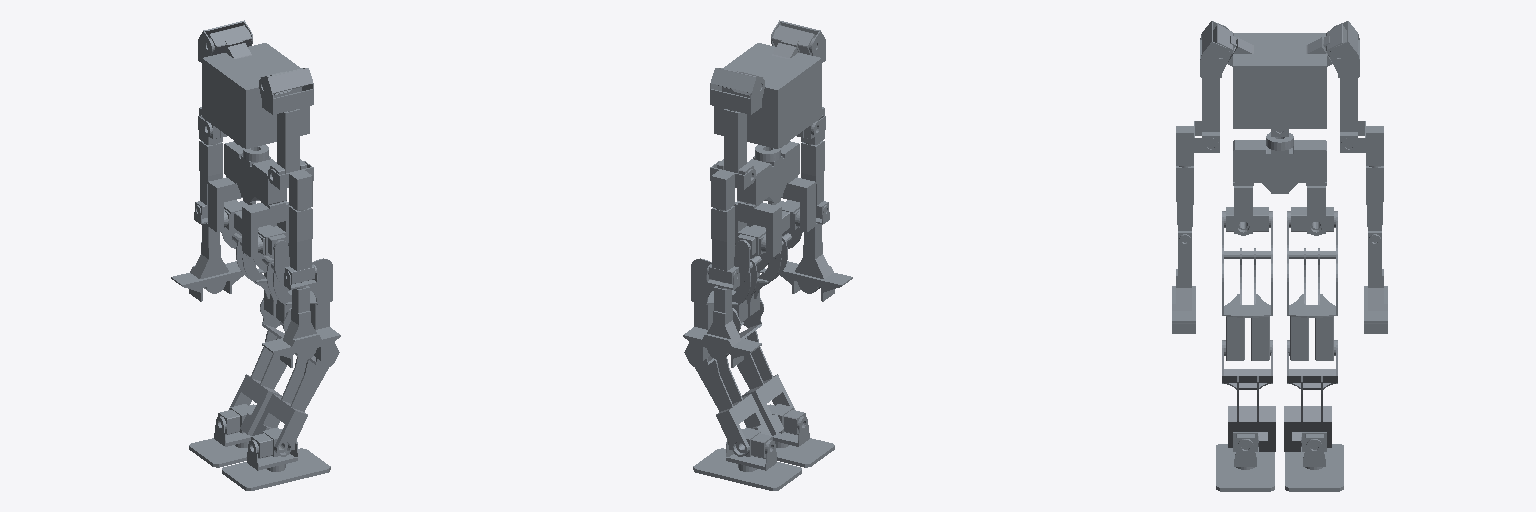
--- What the picture shows (computed from the rendered views, not written in the file) ---
Views: 3 orthographic renders of the robot side by side, from view 1: azimuth 30°, elevation 25°; view 2: azimuth 150°, elevation 25°; view 3: azimuth 270°, elevation 25°.
Model fullbody_mujoco_frame_arrange with 29 links and 28 joints (28 revolute), rooted at Pelvis, posed every joint at zero.
Visible links, largest first — view 1: Body, R3, R5, L3, R2, UR6, Pelvis, UL6, UR1, UR4, R0, L5 (+9 smaller); view 2: Body, L3, L5, R3, L2, UL6, Pelvis, UR6, UL1, UL4, L0, R5 (+9 smaller); view 3: Body, Pelvis, R2, L2, R3, L3, R5, L5, UR6, UL6, UR4, UL4 (+10 smaller).
Link boxes in pixels (x1,y1,x2,y2): Body: [202, 43, 309, 148]; R3: [252, 342, 339, 456]; R5: [222, 440, 330, 490]; L3: [229, 298, 293, 435]; R2: [253, 240, 332, 329]; UR6: [262, 286, 340, 367]; Pelvis: [224, 141, 286, 205]; UL6: [171, 223, 243, 301]; UR1: [259, 68, 313, 114]; UR4: [285, 206, 315, 284]; R0: [242, 201, 289, 257]; L5: [189, 417, 297, 467]; Body: [714, 43, 821, 148]; L3: [684, 342, 771, 456]; L5: [693, 440, 801, 490]; R3: [730, 298, 794, 435]; L2: [691, 240, 770, 329]; UL6: [683, 286, 761, 367]; Pelvis: [737, 141, 799, 205]; UR6: [780, 223, 852, 301]; UL1: [710, 68, 764, 114]; UL4: [708, 206, 738, 284]; L0: [734, 201, 781, 257]; R5: [726, 417, 834, 467]; Body: [1227, 33, 1332, 136]; Pelvis: [1233, 132, 1326, 193]; R2: [1222, 211, 1272, 360]; L2: [1287, 211, 1337, 360]; R3: [1222, 340, 1275, 451]; L3: [1284, 340, 1337, 451]; R5: [1216, 439, 1274, 491]; L5: [1285, 439, 1343, 491]; UR6: [1172, 253, 1195, 333]; UL6: [1364, 253, 1387, 333]; UR4: [1176, 166, 1193, 243]; UL4: [1366, 166, 1383, 243].
Bounding box of the posed robot: 0.3405 × 0.6237 × 1.39 m (x, y, z).
Meshes: 29 distinct files referenced, 28 mesh visuals loaded (28 binary STL); not drawn: 1 (reference not matched to a file when rendering).

robot.urdf — fullbody_mujoco_frame_arrange:
<robot
  name="fullbody_mujoco_frame_arrange">
  <link
    name="Pelvis">
    <inertial>
      <origin
        xyz="-0.00105980649259206 8.82493762363364E-19 0.0819864534283389"
        rpy="0 0 0" />
      <mass
        value="1.99938688064795" />
      <inertia
        ixx="0.0135049631598827"
        ixy="-2.24501058681675E-18"
        ixz="2.82259221890855E-07"
        iyy="0.00355530237788711"
        iyz="-3.83098894264693E-19"
        izz="0.0115793666009882" />
    </inertial>
    <visual>
      <origin
        xyz="0 0 0"
        rpy="0 0 0" />
      <geometry>
        <mesh
          filename="package://fullbody_mujoco_frame_arrange/meshes/Pelvis.STL" />
      </geometry>
      <material
        name="">
        <color
          rgba="0.592156862745098 0.619607843137255 0.650980392156863 1" />
      </material>
    </visual>
    <collision>
      <origin
        xyz="0 0 0"
        rpy="0 0 0" />
      <geometry>
        <mesh
          filename="package://fullbody_mujoco_frame_arrange/meshes/Pelvis.STL" />
      </geometry>
    </collision>
  </link>
  <link
    name="R0">
    <inertial>
      <origin
        xyz="-0.0308912114164692 -1.52655665885959E-16 -0.034357284018367"
        rpy="0 0 0" />
      <mass
        value="1.49504225265301" />
      <inertia
        ixx="0.00324635414551968"
        ixy="5.75637270445361E-18"
        ixz="-0.000774305698585861"
        iyy="0.00586649176969304"
        iyz="-6.62206490565839E-18"
        izz="0.00335306844351764" />
    </inertial>
    <visual>
      <origin
        xyz="0 0 0"
        rpy="0 0 0" />
      <geometry>
        <mesh
          filename="package://fullbody_mujoco_frame_arrange/meshes/R0.STL" />
      </geometry>
      <material
        name="">
        <color
          rgba="0.592156862745098 0.619607843137255 0.650980392156863 1" />
      </material>
    </visual>
    <collision>
      <origin
        xyz="0 0 0"
        rpy="0 0 0" />
      <geometry>
        <mesh
          filename="package://fullbody_mujoco_frame_arrange/meshes/R0.STL" />
      </geometry>
    </collision>
  </link>
  <joint
    name="JR0"
    type="revolute">
    <origin
      xyz="0 -0.105 0"
      rpy="0 0 0" />
    <parent
      link="Pelvis" />
    <child
      link="R0" />
    <axis
      xyz="0 0 1" />
  </joint>
  <link
    name="R1">
    <inertial>
      <origin
        xyz="0.0115999999999955 0.0106425706117865 0.000331808020890556"
        rpy="0 0 0" />
      <mass
        value="1.02295942481793" />
      <inertia
        ixx="0.00167402376208581"
        ixy="3.80943269726996E-18"
        ixz="-6.60686341000731E-20"
        iyy="0.000626629649372664"
        iyz="3.61236668585004E-06"
        izz="0.00172336031851566" />
    </inertial>
    <visual>
      <origin
        xyz="0 0 0"
        rpy="0 0 0" />
      <geometry>
        <mesh
          filename="package://fullbody_mujoco_frame_arrange/meshes/R1.STL" />
      </geometry>
      <material
        name="">
        <color
          rgba="0.592156862745098 0.619607843137255 0.650980392156863 1" />
      </material>
    </visual>
    <collision>
      <origin
        xyz="0 0 0"
        rpy="0 0 0" />
      <geometry>
        <mesh
          filename="package://fullbody_mujoco_frame_arrange/meshes/R1.STL" />
      </geometry>
    </collision>
  </link>
  <joint
    name="JR1"
    type="revolute">
    <origin
      xyz="-0.0175000000000037 0 -0.10240000000001"
      rpy="0 0 0" />
    <parent
      link="R0" />
    <child
      link="R1" />
    <axis
      xyz="1 0 0" />
  </joint>
  <link
    name="R2">
    <inertial>
      <origin
        xyz="0.126227252565039 0.00125000000001285 -0.241193766109434"
        rpy="0 0 0" />
      <mass
        value="3.20210287502586" />
      <inertia
        ixx="0.0325368612554825"
        ixy="-2.2396866944102E-16"
        ixz="0.0107540262686362"
        iyy="0.0340781560009519"
        iyz="4.38077775705211E-16"
        izz="0.0151823794196918" />
    </inertial>
    <visual>
      <origin
        xyz="0 0 0"
        rpy="0 0 0" />
      <geometry>
        <mesh
          filename="package://fullbody_mujoco_frame_arrange/meshes/R2.STL" />
      </geometry>
      <material
        name="">
        <color
          rgba="0.592156862745098 0.619607843137255 0.650980392156863 1" />
      </material>
    </visual>
    <collision>
      <origin
        xyz="0 0 0"
        rpy="0 0 0" />
      <geometry>
        <mesh
          filename="package://fullbody_mujoco_frame_arrange/meshes/R2.STL" />
      </geometry>
    </collision>
  </link>
  <joint
    name="JR2"
    type="revolute">
    <origin
      xyz="0.0115999999999956 0.0107499999999859 0"
      rpy="0 0 0" />
    <parent
      link="R1" />
    <child
      link="R2" />
    <axis
      xyz="0 1 0" />
  </joint>
  <link
    name="R3">
    <inertial>
      <origin
        xyz="-0.0703253219962758 0.0159776440098525 -0.236060567753395"
        rpy="0 0 0" />
      <mass
        value="2.02412981917507" />
      <inertia
        ixx="0.0225925170954812"
        ixy="0.00125524164212042"
        ixz="-0.0089683398047703"
        iyy="0.02365792851957"
        iyz="0.00234544817428302"
        izz="0.00955016079790495" />
    </inertial>
    <visual>
      <origin
        xyz="0 0 0"
        rpy="0 0 0" />
      <geometry>
        <mesh
          filename="package://fullbody_mujoco_frame_arrange/meshes/R3.STL" />
      </geometry>
      <material
        name="">
        <color
          rgba="0.592156862745098 0.619607843137255 0.650980392156863 1" />
      </material>
    </visual>
    <collision>
      <origin
        xyz="0 0 0"
        rpy="0 0 0" />
      <geometry>
        <mesh
          filename="package://fullbody_mujoco_frame_arrange/meshes/R3.STL" />
      </geometry>
    </collision>
  </link>
  <joint
    name="JR3"
    type="revolute">
    <origin
      xyz="0.151500000000001 0 -0.339"
      rpy="0 0 0" />
    <parent
      link="R2" />
    <child
      link="R3" />
    <axis
      xyz="0 1 0" />
  </joint>
  <link
    name="R4">
    <inertial>
      <origin
        xyz="-0.0105200916368529 1.66533453693773E-16 1.11022302462516E-16"
        rpy="0 0 0" />
      <mass
        value="1.03486911401793" />
      <inertia
        ixx="0.00063730620770851"
        ixy="-8.23437812462584E-19"
        ixz="2.57228463602455E-19"
        iyy="0.0016880464367435"
        iyz="1.36728725371534E-19"
        izz="0.00172846914823702" />
    </inertial>
    <visual>
      <origin
        xyz="0 0 0"
        rpy="0 0 0" />
      <geometry>
        <mesh
          filename="package://fullbody_mujoco_frame_arrange/meshes/R4.STL" />
      </geometry>
      <material
        name="">
        <color
          rgba="0.592156862745098 0.619607843137255 0.650980392156863 1" />
      </material>
    </visual>
    <collision>
      <origin
        xyz="0 0 0"
        rpy="0 0 0" />
      <geometry>
        <mesh
          filename="package://fullbody_mujoco_frame_arrange/meshes/R4.STL" />
      </geometry>
    </collision>
  </link>
  <joint
    name="JR4"
    type="revolute">
    <origin
      xyz="-0.132038475772932 -0.00484999999998793 -0.348697348592669"
      rpy="0 0 0" />
    <parent
      link="R3" />
    <child
      link="R4" />
    <axis
      xyz="0 1 0" />
  </joint>
  <link
    name="R5">
    <inertial>
      <origin
        xyz="-0.00139937108212529 7.46624984060418E-15 -0.0862968930611427"
        rpy="0 0 0" />
      <mass
        value="1.29697886625498" />
      <inertia
        ixx="0.00294553917069631"
        ixy="4.3926670498935E-19"
        ixz="6.56163604511414E-05"
        iyy="0.00846043205736081"
        iyz="-5.29087120860116E-20"
        izz="0.0107550696106033" />
    </inertial>
    <visual>
      <origin
        xyz="0 0 0"
        rpy="0 0 0" />
      <geometry>
        <mesh
          filename="package://fullbody_mujoco_frame_arrange/meshes/R5.STL" />
      </geometry>
      <material
        name="">
        <color
          rgba="0.592156862745098 0.619607843137255 0.650980392156863 1" />
      </material>
    </visual>
    <collision>
      <origin
        xyz="0 0 0"
        rpy="0 0 0" />
      <geometry>
        <mesh
          filename="package://fullbody_mujoco_frame_arrange/meshes/R5.STL" />
      </geometry>
    </collision>
  </link>
  <joint
    name="JR5"
    type="revolute">
    <origin
      xyz="0 0 0"
      rpy="0 0 0" />
    <parent
      link="R4" />
    <child
      link="R5" />
    <axis
      xyz="1 0 0" />
  </joint>
  <link
    name="L0">
    <inertial>
      <origin
        xyz="-0.0308912114164687 4.14945855453652E-15 -0.0343572840183674"
        rpy="0 0 0" />
      <mass
        value="1.49504225265302" />
      <inertia
        ixx="0.00324635414551968"
        ixy="-5.38980843610817E-18"
        ixz="-0.000774305698585859"
        iyy="0.00586649176969304"
        iyz="6.78820995201807E-18"
        izz="0.00335306844351765" />
    </inertial>
    <visual>
      <origin
        xyz="0 0 0"
        rpy="0 0 0" />
      <geometry>
        <mesh
          filename="package://fullbody_mujoco_frame_arrange/meshes/L0.STL" />
      </geometry>
      <material
        name="">
        <color
          rgba="0.592156862745098 0.619607843137255 0.650980392156863 1" />
      </material>
    </visual>
    <collision>
      <origin
        xyz="0 0 0"
        rpy="0 0 0" />
      <geometry>
        <mesh
          filename="package://fullbody_mujoco_frame_arrange/meshes/L0.STL" />
      </geometry>
    </collision>
  </link>
  <joint
    name="JL0"
    type="revolute">
    <origin
      xyz="0 0.105 0"
      rpy="0 0 0" />
    <parent
      link="Pelvis" />
    <child
      link="L0" />
    <axis
      xyz="0 0 1" />
  </joint>
  <link
    name="L1">
    <inertial>
      <origin
        xyz="0.0115999999999968 -0.0106425706117873 0.00033180802088742"
        rpy="0 0 0" />
      <mass
        value="1.02295942481793" />
      <inertia
        ixx="0.00167402376208581"
        ixy="-4.1396015436322E-18"
        ixz="-8.43779726493598E-20"
        iyy="0.000626629649372664"
        iyz="-3.61236668584994E-06"
        izz="0.00172336031851566" />
    </inertial>
    <visual>
      <origin
        xyz="0 0 0"
        rpy="0 0 0" />
      <geometry>
        <mesh
          filename="package://fullbody_mujoco_frame_arrange/meshes/L1.STL" />
      </geometry>
      <material
        name="">
        <color
          rgba="0.592156862745098 0.619607843137255 0.650980392156863 1" />
      </material>
    </visual>
    <collision>
      <origin
        xyz="0 0 0"
        rpy="0 0 0" />
      <geometry>
        <mesh
          filename="package://fullbody_mujoco_frame_arrange/meshes/L1.STL" />
      </geometry>
    </collision>
  </link>
  <joint
    name="JL1"
    type="revolute">
    <origin
      xyz="-0.0175000000000052 0 -0.102400000000006"
      rpy="0 0 0" />
    <parent
      link="L0" />
    <child
      link="L1" />
    <axis
      xyz="1 0 0" />
  </joint>
  <link
    name="L2">
    <inertial>
      <origin
        xyz="0.12622725256504 -0.00125000000001373 -0.241193766109435"
        rpy="0 0 0" />
      <mass
        value="3.20210287502589" />
      <inertia
        ixx="0.0325368612554827"
        ixy="1.32963067052095E-16"
        ixz="0.0107540262686364"
        iyy="0.0340781560009522"
        iyz="-3.23000714373388E-16"
        izz="0.015182379419692" />
    </inertial>
    <visual>
      <origin
        xyz="0 0 0"
        rpy="0 0 0" />
      <geometry>
        <mesh
          filename="package://fullbody_mujoco_frame_arrange/meshes/L2.STL" />
      </geometry>
      <material
        name="">
        <color
          rgba="0.592156862745098 0.619607843137255 0.650980392156863 1" />
      </material>
    </visual>
    <collision>
      <origin
        xyz="0 0 0"
        rpy="0 0 0" />
      <geometry>
        <mesh
          filename="package://fullbody_mujoco_frame_arrange/meshes/L2.STL" />
      </geometry>
    </collision>
  </link>
  <joint
    name="JL2"
    type="revolute">
    <origin
      xyz="0.0115999999999949 -0.0107499999999874 0"
      rpy="0 0 0" />
    <parent
      link="L1" />
    <child
      link="L2" />
    <axis
      xyz="0 1 0" />
  </joint>
  <link
    name="L3">
    <inertial>
      <origin
        xyz="-0.0703253219962734 -0.0159776440098489 -0.236060567753398"
        rpy="0 0 0" />
      <mass
        value="2.02412981917507" />
      <inertia
        ixx="0.0225925170954812"
        ixy="-0.00125524164212041"
        ixz="-0.00896833980477029"
        iyy="0.02365792851957"
        iyz="-0.002345448174283"
        izz="0.00955016079790494" />
    </inertial>
    <visual>
      <origin
        xyz="0 0 0"
        rpy="0 0 0" />
      <geometry>
        <mesh
          filename="package://fullbody_mujoco_frame_arrange/meshes/L3.STL" />
      </geometry>
      <material
        name="">
        <color
          rgba="0.592156862745098 0.619607843137255 0.650980392156863 1" />
      </material>
    </visual>
    <collision>
      <origin
        xyz="0 0 0"
        rpy="0 0 0" />
      <geometry>
        <mesh
          filename="package://fullbody_mujoco_frame_arrange/meshes/L3.STL" />
      </geometry>
    </collision>
  </link>
  <joint
    name="JL3"
    type="revolute">
    <origin
      xyz="0.151500000000001 0 -0.339"
      rpy="0 0 0" />
    <parent
      link="L2" />
    <child
      link="L3" />
    <axis
      xyz="0 1 0" />
  </joint>
  <link
    name="L4">
    <inertial>
      <origin
        xyz="-0.010520091636853 -1.66533453693773E-16 0"
        rpy="0 0 0" />
      <mass
        value="1.03486911401793" />
      <inertia
        ixx="0.00063730620770851"
        ixy="4.37093279155166E-18"
        ixz="-1.61410521280331E-20"
        iyy="0.0016880464367435"
        iyz="1.69186326886605E-20"
        izz="0.00172846914823702" />
    </inertial>
    <visual>
      <origin
        xyz="0 0 0"
        rpy="0 0 0" />
      <geometry>
        <mesh
          filename="package://fullbody_mujoco_frame_arrange/meshes/L4.STL" />
      </geometry>
      <material
        name="">
        <color
          rgba="0.592156862745098 0.619607843137255 0.650980392156863 1" />
      </material>
    </visual>
    <collision>
      <origin
        xyz="0 0 0"
        rpy="0 0 0" />
      <geometry>
        <mesh
          filename="package://fullbody_mujoco_frame_arrange/meshes/L4.STL" />
      </geometry>
    </collision>
  </link>
  <joint
    name="JL4"
    type="revolute">
    <origin
      xyz="-0.132038475772929 0.00484999999998872 -0.348697348592673"
      rpy="0 0 0" />
    <parent
      link="L3" />
    <child
      link="L4" />
    <axis
      xyz="0 1 0" />
  </joint>
  <link
    name="L5">
    <inertial>
      <origin
        xyz="-0.00139937108212552 -7.18869408444789E-15 -0.0862968930611433"
        rpy="0 0 0" />
      <mass
        value="1.29697886625497" />
      <inertia
        ixx="0.0029455391706963"
        ixy="-1.85521907614196E-18"
        ixz="6.5616360451143E-05"
        iyy="0.00846043205736077"
        iyz="9.61041556129397E-19"
        izz="0.0107550696106032" />
    </inertial>
    <visual>
      <origin
        xyz="0 0 0"
        rpy="0 0 0" />
      <geometry>
        <mesh
          filename="package://fullbody_mujoco_frame_arrange/meshes/L5.STL" />
      </geometry>
      <material
        name="">
        <color
          rgba="0.592156862745098 0.619607843137255 0.650980392156863 1" />
      </material>
    </visual>
    <collision>
      <origin
        xyz="0 0 0"
        rpy="0 0 0" />
      <geometry>
        <mesh
          filename="package://fullbody_mujoco_frame_arrange/meshes/L5.STL" />
      </geometry>
    </collision>
  </link>
  <joint
    name="JL5"
    type="revolute">
    <origin
      xyz="0 0 0"
      rpy="0 0 0" />
    <parent
      link="L4" />
    <child
      link="L5" />
    <axis
      xyz="1 0 0" />
  </joint>
  <link
    name="_Waist">
    <inertial>
      <origin
        xyz="-8.00340135756405E-17 -1.29715930275489E-17 0.178270343216913"
        rpy="0 0 0" />
      <mass
        value="0.176842325492251" />
      <inertia
        ixx="8.6348896175371E-05"
        ixy="1.60004039325329E-19"
        ixz="4.3882054843226E-19"
        iyy="0.000457258903225457"
        iyz="-7.47939022860998E-20"
        izz="0.000457225042872109" />
    </inertial>
    <visual>
      <origin
        xyz="0 0 0"
        rpy="0 0 0" />
      <geometry>
        <mesh
          filename="package://fullbody_mujoco_frame_arrange/meshes/_Waist.STL" />
      </geometry>
      <material
        name="">
        <color
          rgba="0.592156862745098 0.619607843137255 0.650980392156863 1" />
      </material>
    </visual>
    <collision>
      <origin
        xyz="0 0 0"
        rpy="0 0 0" />
      <geometry>
        <mesh
          filename="package://fullbody_mujoco_frame_arrange/meshes/_Waist.STL" />
      </geometry>
    </collision>
  </link>
  <joint
    name="_J_Waist"
    type="revolute">
    <origin
      xyz="0 0 0"
      rpy="0 0 0" />
    <parent
      link="Pelvis" />
    <child
      link="_Waist" />
    <axis
      xyz="0 0 1" />
  </joint>
  <link
    name="Body">
    <inertial>
      <origin
        xyz="-7.87563153227396E-06 -3.46104364475342E-16 0.12099852433747"
        rpy="0 0 0" />
      <mass
        value="10.779900988048" />
      <inertia
        ixx="0.104941196639937"
        ixy="-2.41792451787274E-16"
        ixz="-9.95220113469288E-06"
        iyy="0.0846793937803302"
        iyz="-3.0557678735332E-17"
        izz="0.109346308114195" />
    </inertial>
    <visual>
      <origin
        xyz="0 0 0"
        rpy="0 0 0" />
      <geometry>
        <mesh
          filename="package://fullbody_mujoco_frame_arrange/meshes/Body.STL" />
      </geometry>
      <material
        name="">
        <color
          rgba="0.592156862745098 0.619607843137255 0.650980392156863 1" />
      </material>
    </visual>
    <collision>
      <origin
        xyz="0 0 0"
        rpy="0 0 0" />
      <geometry>
        <mesh
          filename="package://fullbody_mujoco_frame_arrange/meshes/Body.STL" />
      </geometry>
    </collision>
  </link>
  <joint
    name="JB"
    type="revolute">
    <origin
      xyz="0 0 0.2185"
      rpy="0 0 0" />
    <parent
      link="_Waist" />
    <child
      link="Body" />
    <axis
      xyz="1 0 0" />
  </joint>
  <link
    name="UR0">
    <inertial>
      <origin
        xyz="0.000284439731738008 0.00120962828312199 -0.00069837921488447"
        rpy="0 0 0" />
      <mass
        value="0.928260291639464" />
      <inertia
        ixx="0.000471395640764918"
        ixy="-8.70058258615057E-09"
        ixz="5.02328369838718E-09"
        iyy="0.00154608316167006"
        iyz="6.72865494720474E-06"
        izz="0.00155385274316016" />
    </inertial>
    <visual>
      <origin
        xyz="0 0 0"
        rpy="0 0 0" />
      <geometry>
        <mesh
          filename="package://fullbody_mujoco_frame_arrange/meshes/UR0.STL" />
      </geometry>
      <material
        name="">
        <color
          rgba="0.592156862745098 0.619607843137255 0.650980392156863 1" />
      </material>
    </visual>
    <collision>
      <origin
        xyz="0 0 0"
        rpy="0 0 0" />
      <geometry>
        <mesh
          filename="package://fullbody_mujoco_frame_arrange/meshes/UR0.STL" />
      </geometry>
    </collision>
  </link>
  <joint
    name="JUR0"
    type="revolute">
    <origin
      xyz="0 -0.16999999999999 0.239000000000004"
      rpy="0 0 0" />
    <parent
      link="Body" />
    <child
      link="UR0" />
    <axis
      xyz="0 0.866025403784437 -0.500000000000003" />
  </joint>
  <link
    name="UR1">
    <inertial>
      <origin
        xyz="2.02696415098754E-15 -0.0335621345588441 -0.0304020188835159"
        rpy="0 0 0" />
      <mass
        value="0.373608707284293" />
      <inertia
        ixx="0.000654384857550586"
        ixy="-1.08030791028319E-18"
        ixz="-1.18937654731979E-18"
        iyy="0.0014937667987878"
        iyz="-7.73373256519738E-06"
        izz="0.00116418080219551" />
    </inertial>
    <visual>
      <origin
        xyz="0 0 0"
        rpy="0 0 0" />
      <geometry>
        <mesh
          filename="package://fullbody_mujoco_frame_arrange/meshes/UR1.STL" />
      </geometry>
      <material
        name="">
        <color
          rgba="0.592156862745098 0.619607843137255 0.650980392156863 1" />
      </material>
    </visual>
    <collision>
      <origin
        xyz="0 0 0"
        rpy="0 0 0" />
      <geometry>
        <mesh
          filename="package://fullbody_mujoco_frame_arrange/meshes/UR1.STL" />
      </geometry>
    </collision>
  </link>
  <joint
    name="JUR1"
    type="revolute">
    <origin
      xyz="0 0 0"
      rpy="0 0 0" />
    <parent
      link="UR0" />
    <child
      link="UR1" />
    <axis
      xyz="1 0 0" />
  </joint>
  <link
    name="UR2">
    <inertial>
      <origin
        xyz="-0.000466491496121203 1.11022302462516E-14 -0.2140874639808"
        rpy="0 0 0" />
      <mass
        value="1.75121750932602" />
      <inertia
        ixx="0.0101546802296105"
        ixy="-4.25067772057951E-20"
        ixz="-6.52827942954527E-05"
        iyy="0.0105712521065513"
        iyz="1.61755626143175E-17"
        izz="0.00125940999134334" />
    </inertial>
    <visual>
      <origin
        xyz="0 0 0"
        rpy="0 0 0" />
      <geometry>
        <mesh
          filename="package://fullbody_mujoco_frame_arrange/meshes/UR2.STL" />
      </geometry>
      <material
        name="">
        <color
          rgba="0.592156862745098 0.619607843137255 0.650980392156863 1" />
      </material>
    </visual>
    <collision>
      <origin
        xyz="0 0 0"
        rpy="0 0 0" />
      <geometry>
        <mesh
          filename="package://fullbody_mujoco_frame_arrange/meshes/UR2.STL" />
      </geometry>
    </collision>
  </link>
  <joint
    name="JUR2"
    type="revolute">
    <origin
      xyz="0 -0.0288557173865372 0"
      rpy="0 0 0" />
    <parent
      link="UR1" />
    <child
      link="UR2" />
    <axis
      xyz="0 0 1" />
  </joint>
  <link
    name="UR3">
    <inertial>
      <origin
        xyz="-0.000131563471519516 -0.0706245253279183 -0.0270194306600813"
        rpy="0 0 0" />
      <mass
        value="0.833430718805267" />
      <inertia
        ixx="0.00115447330671884"
        ixy="-5.25000312576867E-07"
        ixz="-4.151689310864E-07"
        iyy="0.00118849335716542"
        iyz="-9.85305419423249E-05"
        izz="0.000721156174010893" />
    </inertial>
    <visual>
      <origin
        xyz="0 0 0"
        rpy="0 0 0" />
      <geometry>
        <mesh
          filename="package://fullbody_mujoco_frame_arrange/meshes/UR3.STL" />
      </geometry>
      <material
        name="">
        <color
          rgba="0.592156862745098 0.619607843137255 0.650980392156863 1" />
      </material>
    </visual>
    <collision>
      <origin
        xyz="0 0 0"
        rpy="0 0 0" />
      <geometry>
        <mesh
          filename="package://fullbody_mujoco_frame_arrange/meshes/UR3.STL" />
      </geometry>
    </collision>
  </link>
  <joint
    name="JUR3"
    type="revolute">
    <origin
      xyz="0 0 -0.294"
      rpy="0 0 0" />
    <parent
      link="UR2" />
    <child
      link="UR3" />
    <axis
      xyz="1 0 0" />
  </joint>
  <link
    name="UR4">
    <inertial>
      <origin
        xyz="-0.000378330619578266 1.08801856413265E-14 -0.190037293735594"
        rpy="0 0 0" />
      <mass
        value="0.523866816213723" />
      <inertia
        ixx="0.00280058995946931"
        ixy="2.27258754809442E-19"
        ixz="-1.88211200032065E-05"
        iyy="0.00287737171160457"
        iyz="1.0322089037877E-17"
        izz="0.000269298936548279" />
    </inertial>
    <visual>
      <origin
        xyz="0 0 0"
        rpy="0 0 0" />
      <geometry>
        <mesh
          filename="package://fullbody_mujoco_frame_arrange/meshes/UR4.STL" />
      </geometry>
      <material
        name="">
        <color
          rgba="0.592156862745098 0.619607843137255 0.650980392156863 1" />
      </material>
    </visual>
    <collision>
      <origin
        xyz="0 0 0"
        rpy="0 0 0" />
      <geometry>
        <mesh
          filename="package://fullbody_mujoco_frame_arrange/meshes/UR4.STL" />
      </geometry>
    </collision>
  </link>
  <joint
    name="JUR4"
    type="revolute">
    <origin
      xyz="-0.000150000000000342 -0.0749999999999986 -0.0234999999999984"
      rpy="0 0 0" />
    <parent
      link="UR3" />
    <child
      link="UR4" />
    <axis
      xyz="0 0 1" />
  </joint>
  <link
    name="UR5">
    <inertial>
      <origin
        xyz="2.1206E-15 1.1435E-14 -0.029698"
        rpy="0 0 0" />
      <mass
        value="0.0695" />
      <inertia
        ixx="2.1312E-05"
        ixy="-4.2712E-20"
        ixz="-5.5881E-20"
        iyy="9.1278E-05"
        iyz="-6.3143E-19"
        izz="9.0005E-05" />
    </inertial>
    <visual>
      <origin
        xyz="0 0 0"
        rpy="0 0 0" />
      <geometry>
        <mesh
          filename="package://fullbody_mujoco_frame_arrange/meshes/UR5.STL" />
      </geometry>
      <material
        name="">
        <color
          rgba="0.59216 0.61961 0.65098 1" />
      </material>
    </visual>
    <collision>
      <origin
        xyz="0 0 0"
        rpy="0 0 0" />
      <geometry>
        <mesh
          filename="package://fullbody_mujoco_frame_arrange/meshes/UR5.STL" />
      </geometry>
    </collision>
  </link>
  <joint
    name="JUR5"
    type="revolute">
    <origin
      xyz="0 0 -0.285"
      rpy="0 0 0" />
    <parent
      link="UR4" />
    <child
      link="UR5" />
    <axis
      xyz="1 0 0" />
  </joint>
  <link
    name="UR6">
    <inertial>
      <origin
        xyz="-1.1254E-15 -0.0031654 -0.16931"
        rpy="0 0 0" />
      <mass
        value="1.206" />
      <inertia
        ixx="0.0045882"
        ixy="-6.9398E-18"
        ixz="-1.4131E-16"
        iyy="0.0064066"
        iyz="-6.7979E-05"
        izz="0.002589" />
    </inertial>
    <visual>
      <origin
        xyz="0 0 0"
        rpy="0 0 0" />
      <geometry>
        <mesh
          filename="package://fullbody_mujoco_frame_arrange/meshes/UR6.STL" />
      </geometry>
      <material
        name="">
        <color
          rgba="0.59216 0.61961 0.65098 1" />
      </material>
    </visual>
    <collision>
      <origin
        xyz="0 0 0"
        rpy="0 0 0" />
      <geometry>
        <mesh
          filename="package://fullbody_mujoco_frame_arrange/meshes/UR6.STL" />
      </geometry>
    </collision>
  </link>
  <joint
    name="JUR6"
    type="revolute">
    <origin
      xyz="0 0 -0.0330000000000009"
      rpy="0 0 0" />
    <parent
      link="UR5" />
    <child
      link="UR6" />
    <axis
      xyz="0 0 1" />
  </joint>
  <link
    name="UL0">
    <inertial>
      <origin
        xyz="0.000284439731736625 -0.00120962828312696 -0.00069837921488286"
        rpy="0 0 0" />
      <mass
        value="0.928260291639465" />
      <inertia
        ixx="0.000471395640764918"
        ixy="8.70058258706859E-09"
        ixz="5.02328369786839E-09"
        iyy="0.00154608316167006"
        iyz="-6.72865494720477E-06"
        izz="0.00155385274316016" />
    </inertial>
    <visual>
      <origin
        xyz="0 0 0"
        rpy="0 0 0" />
      <geometry>
        <mesh
          filename="package://fullbody_mujoco_frame_arrange/meshes/UL0.STL" />
      </geometry>
      <material
        name="">
        <color
          rgba="0.592156862745098 0.619607843137255 0.650980392156863 1" />
      </material>
    </visual>
    <collision>
      <origin
        xyz="0 0 0"
        rpy="0 0 0" />
      <geometry>
        <mesh
          filename="package://fullbody_mujoco_frame_arrange/meshes/UL0.STL" />
      </geometry>
    </collision>
  </link>
  <joint
    name="JUL0"
    type="revolute">
    <origin
      xyz="0 0.169999999999999 0.239"
      rpy="0 0 0" />
    <parent
      link="Body" />
    <child
      link="UL0" />
    <axis
      xyz="0 0.866025403784441 0.499999999999996" />
  </joint>
  <link
    name="UL1">
    <inertial>
      <origin
        xyz="-3.18154760748763E-17 0.0335621345588547 -0.0304020188835198"
        rpy="0 0 0" />
      <mass
        value="0.373608707284294" />
      <inertia
        ixx="0.000654384857550588"
        ixy="-1.62879746594632E-19"
        ixz="5.39311756392918E-19"
        iyy="0.00149376679878781"
        iyz="7.73373256519799E-06"
        izz="0.00116418080219552" />
    </inertial>
    <visual>
      <origin
        xyz="0 0 0"
        rpy="0 0 0" />
      <geometry>
        <mesh
          filename="package://fullbody_mujoco_frame_arrange/meshes/UL1.STL" />
      </geometry>
      <material
        name="">
        <color
          rgba="0.592156862745098 0.619607843137255 0.650980392156863 1" />
      </material>
    </visual>
    <collision>
      <origin
        xyz="0 0 0"
        rpy="0 0 0" />
      <geometry>
        <mesh
          filename="package://fullbody_mujoco_frame_arrange/meshes/UL1.STL" />
      </geometry>
    </collision>
  </link>
  <joint
    name="JUL1"
    type="revolute">
    <origin
      xyz="0 0 0"
      rpy="0 0 0" />
    <parent
      link="UL0" />
    <child
      link="UL1" />
    <axis
      xyz="1 0 0" />
  </joint>
  <link
    name="UL2">
    <inertial>
      <origin
        xyz="-0.000466491496124519 -2.22044604925031E-16 -0.214087463980804"
        rpy="0 0 0" />
      <mass
        value="1.75121750932602" />
      <inertia
        ixx="0.0101546802296105"
        ixy="-2.55999103119317E-19"
        ixz="-6.52827942954528E-05"
        iyy="0.0105712521065514"
        iyz="-1.28744250337576E-17"
        izz="0.00125940999134334" />
    </inertial>
    <visual>
      <origin
        xyz="0 0 0"
        rpy="0 0 0" />
      <geometry>
        <mesh
          filename="package://fullbody_mujoco_frame_arrange/meshes/UL2.STL" />
      </geometry>
      <material
        name="">
        <color
          rgba="0.592156862745098 0.619607843137255 0.650980392156863 1" />
      </material>
    </visual>
    <collision>
      <origin
        xyz="0 0 0"
        rpy="0 0 0" />
      <geometry>
        <mesh
          filename="package://fullbody_mujoco_frame_arrange/meshes/UL2.STL" />
      </geometry>
    </collision>
  </link>
  <joint
    name="JUL2"
    type="revolute">
    <origin
      xyz="0 0.0288557173865373 0"
      rpy="0 0 0" />
    <parent
      link="UL1" />
    <child
      link="UL2" />
    <axis
      xyz="0 0 1" />
  </joint>
  <link
    name="UL3">
    <inertial>
      <origin
        xyz="-0.000131563471520548 0.070624525327931 -0.027019430660088"
        rpy="0 0 0" />
      <mass
        value="0.833430718805267" />
      <inertia
        ixx="0.00115447330671884"
        ixy="5.25000312576853E-07"
        ixz="-4.15168931086073E-07"
        iyy="0.00118849335716542"
        iyz="9.85305419423229E-05"
        izz="0.000721156174010893" />
    </inertial>
    <visual>
      <origin
        xyz="0 0 0"
        rpy="0 0 0" />
      <geometry>
        <mesh
          filename="package://fullbody_mujoco_frame_arrange/meshes/UL3.STL" />
      </geometry>
      <material
        name="">
        <color
          rgba="0.592156862745098 0.619607843137255 0.650980392156863 1" />
      </material>
    </visual>
    <collision>
      <origin
        xyz="0 0 0"
        rpy="0 0 0" />
      <geometry>
        <mesh
          filename="package://fullbody_mujoco_frame_arrange/meshes/UL3.STL" />
      </geometry>
    </collision>
  </link>
  <joint
    name="JUL3"
    type="revolute">
    <origin
      xyz="0 0 -0.294"
      rpy="0 0 0" />
    <parent
      link="UL2" />
    <child
      link="UL3" />
    <axis
      xyz="1 0 0" />
  </joint>
  <link
    name="UL4">
    <inertial>
      <origin
        xyz="-0.000378330619580077 -7.7715611723761E-16 -0.190037293735599"
        rpy="0 0 0" />
      <mass
        value="0.523866816213724" />
      <inertia
        ixx="0.00280058995946932"
        ixy="-7.51987298590696E-20"
        ixz="-1.88211200032047E-05"
        iyy="0.00287737171160457"
        iyz="-1.92678968813138E-17"
        izz="0.000269298936548279" />
    </inertial>
    <visual>
      <origin
        xyz="0 0 0"
        rpy="0 0 0" />
      <geometry>
        <mesh
          filename="package://fullbody_mujoco_frame_arrange/meshes/UL4.STL" />
      </geometry>
      <material
        name="">
        <color
          rgba="0.592156862745098 0.619607843137255 0.650980392156863 1" />
      </material>
    </visual>
    <collision>
      <origin
        xyz="0 0 0"
        rpy="0 0 0" />
      <geometry>
        <mesh
          filename="package://fullbody_mujoco_frame_arrange/meshes/UL4.STL" />
      </geometry>
    </collision>
  </link>
  <joint
    name="JUL4"
    type="revolute">
    <origin
      xyz="-0.000149999999999423 0.0750000000000007 -0.023500000000001"
      rpy="0 0 0" />
    <parent
      link="UL3" />
    <child
      link="UL4" />
    <axis
      xyz="0 0 1" />
  </joint>
  <link
    name="UL5">
    <inertial>
      <origin
        xyz="8.8254E-17 -8.3267E-16 -0.029698"
        rpy="0 0 0" />
      <mass
        value="0.0695" />
      <inertia
        ixx="2.1312E-05"
        ixy="1.9123E-19"
        ixz="-7.5384E-20"
        iyy="9.1278E-05"
        iyz="6.6186E-19"
        izz="9.0005E-05" />
    </inertial>
    <visual>
      <origin
        xyz="0 0 0"
        rpy="0 0 0" />
      <geometry>
        <mesh
          filename="package://fullbody_mujoco_frame_arrange/meshes/UL5.STL" />
      </geometry>
      <material
        name="">
        <color
          rgba="0.59216 0.61961 0.65098 1" />
      </material>
    </visual>
    <collision>
      <origin
        xyz="0 0 0"
        rpy="0 0 0" />
      <geometry>
        <mesh
          filename="package://fullbody_mujoco_frame_arrange/meshes/UL5.STL" />
      </geometry>
    </collision>
  </link>
  <joint
    name="JUL5"
    type="revolute">
    <origin
      xyz="0 0 -0.285"
      rpy="0 0 0" />
    <parent
      link="UL4" />
    <child
      link="UL5" />
    <axis
      xyz="1 0 0" />
  </joint>
  <link
    name="UL6">
    <inertial>
      <origin
        xyz="-3.1477E-15 0.0031654 -0.16931"
        rpy="0 0 0" />
      <mass
        value="1.206" />
      <inertia
        ixx="0.0045882"
        ixy="6.7315E-18"
        ixz="-1.4205E-16"
        iyy="0.0064066"
        iyz="6.7979E-05"
        izz="0.002589" />
    </inertial>
    <visual>
      <origin
        xyz="0 0 0"
        rpy="0 0 0" />
      <geometry>
        <mesh
          filename="package://fullbody_mujoco_frame_arrange/meshes/UL6.STL" />
      </geometry>
      <material
        name="">
        <color
          rgba="0.59216 0.61961 0.65098 1" />
      </material>
    </visual>
    <collision>
      <origin
        xyz="0 0 0"
        rpy="0 0 0" />
      <geometry>
        <mesh
          filename="package://fullbody_mujoco_frame_arrange/meshes/UL6.STL" />
      </geometry>
    </collision>
  </link>
  <joint
    name="JUL6"
    type="revolute">
    <origin
      xyz="0 0 -0.0330000000000008"
      rpy="0 0 0" />
    <parent
      link="UL5" />
    <child
      link="UL6" />
    <axis
      xyz="0 0 1" />
  </joint>
</robot>
